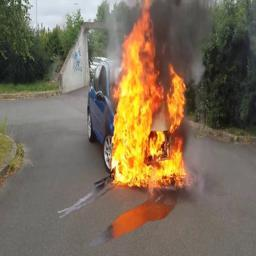fire: (112, 2, 187, 185)
